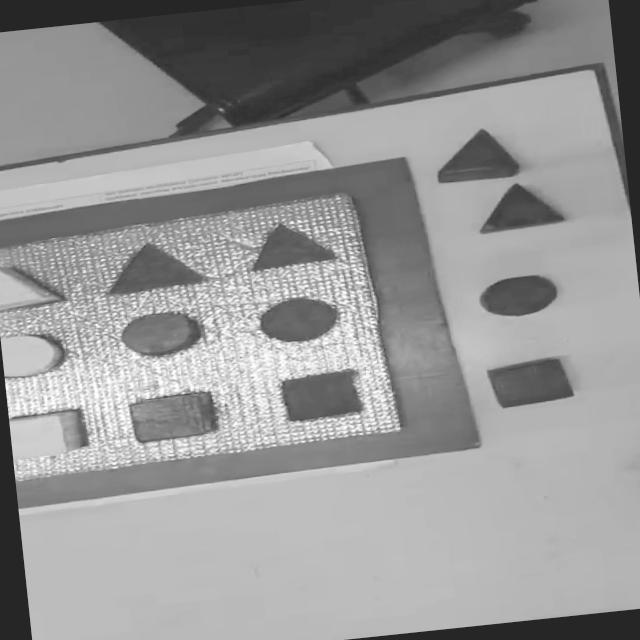bcircle: (476, 270, 561, 320)
bcube: (484, 354, 576, 409)
btriangle: (472, 177, 566, 234)
mtcircle: (255, 292, 341, 346)
mtcube: (278, 367, 366, 423)
mttriangle: (100, 236, 210, 296), (242, 215, 338, 272)
rcircle: (116, 307, 199, 358)
rcube: (125, 389, 217, 444)
rtriangle: (432, 126, 520, 184)
wb: (0, 188, 408, 485)
ycircle: (0, 328, 67, 379)
ycube: (8, 408, 88, 462)
ytriangle: (0, 255, 65, 312)
